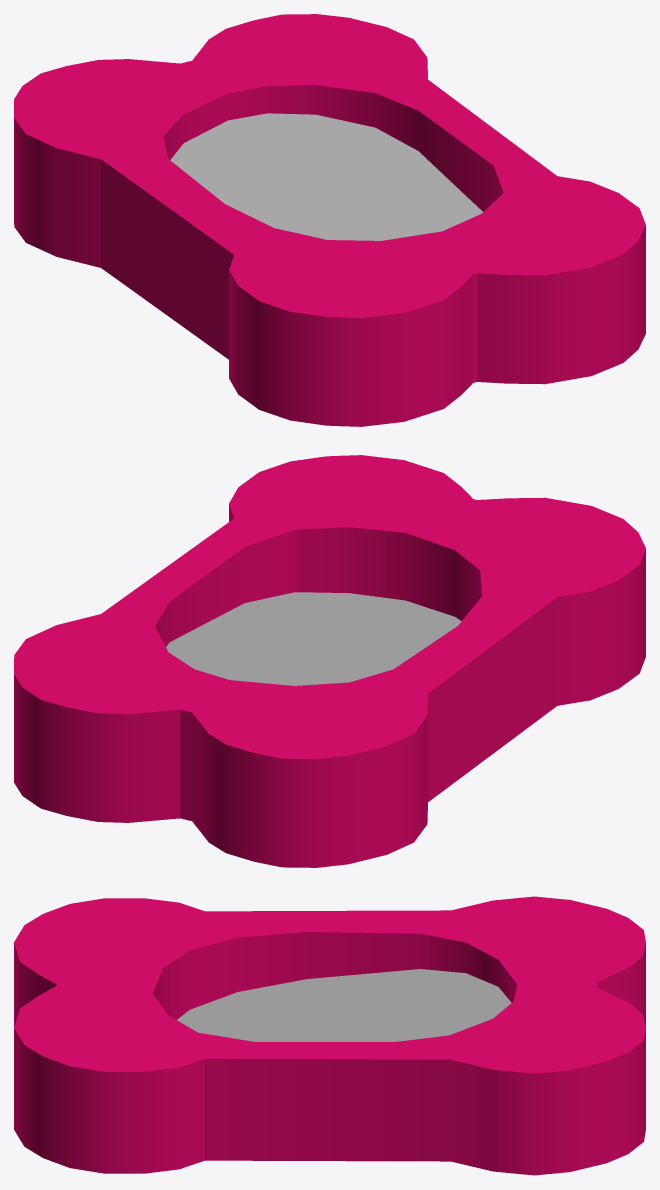
Rendered from project.fbx.
The picture shows the model from 3 angles, top to bottom: view 1: azimuth 30°, elevation 25°; view 2: azimuth 150°, elevation 25°; view 3: azimuth 270°, elevation 25°; orthographic projection. The views are drawn at different scales.
Parts seen in each view (by area): view 1: Plane.001; view 2: Plane.001; view 3: Plane.001.
Part boxes in pixels (bbox=[...]): Plane.001: bbox=[14, 14, 645, 426]; Plane.001: bbox=[14, 455, 645, 867]; Plane.001: bbox=[14, 896, 645, 1175].
Bounding box in the file's own units: 35.63 × 9.53 × 53.68.
